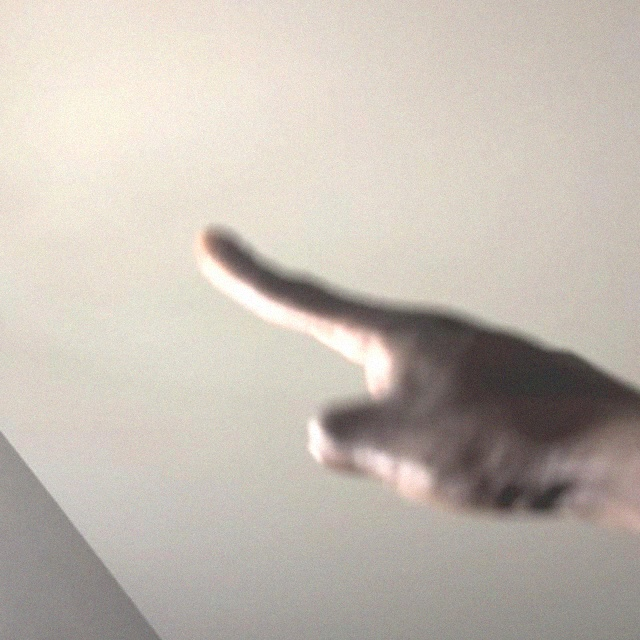Scissors: (189, 225, 622, 522)
